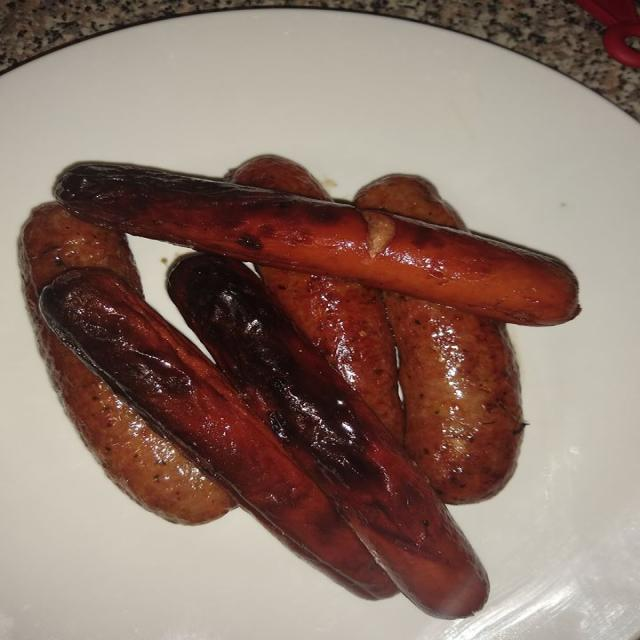sausage: (40, 269, 397, 597), (169, 255, 487, 617), (56, 164, 578, 325), (19, 203, 235, 524), (384, 292, 524, 503), (258, 266, 404, 441)
